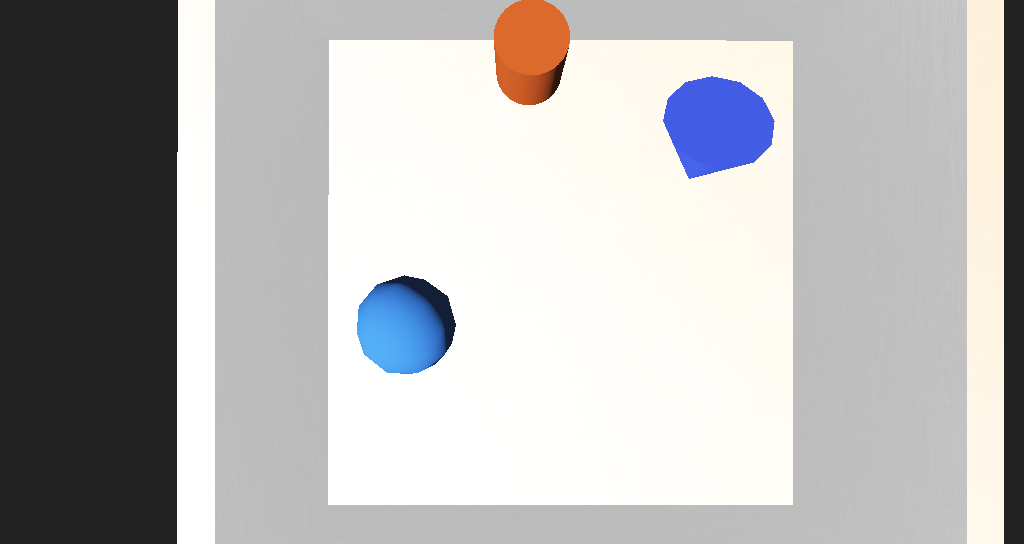cone: (461, 150, 509, 193)
cylinder: (559, 184, 627, 246)
sphere: (371, 267, 438, 315)
